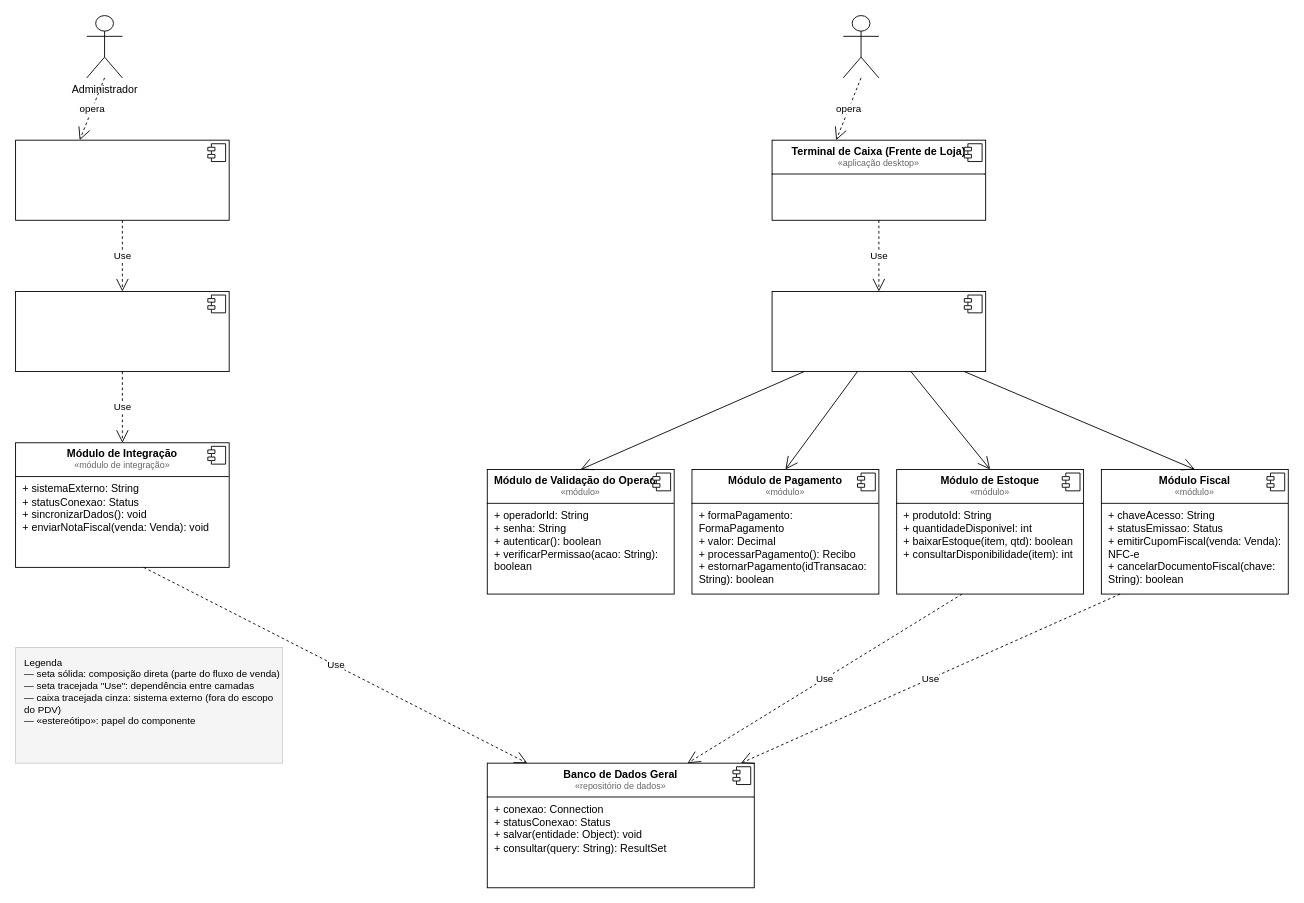
Some shapes in this 1304 by 903 pixel diagram are drawn without their labels. Each missing label, with the centre of its shape:
"Caixa «serviço»" belongs at [878,331].
"Operador de Caixa" belongs at [860,46].
"Serviço Administrativo «serviço»" belongs at [122,331].
"WebApp «aplicação web»" belongs at [122,179].
